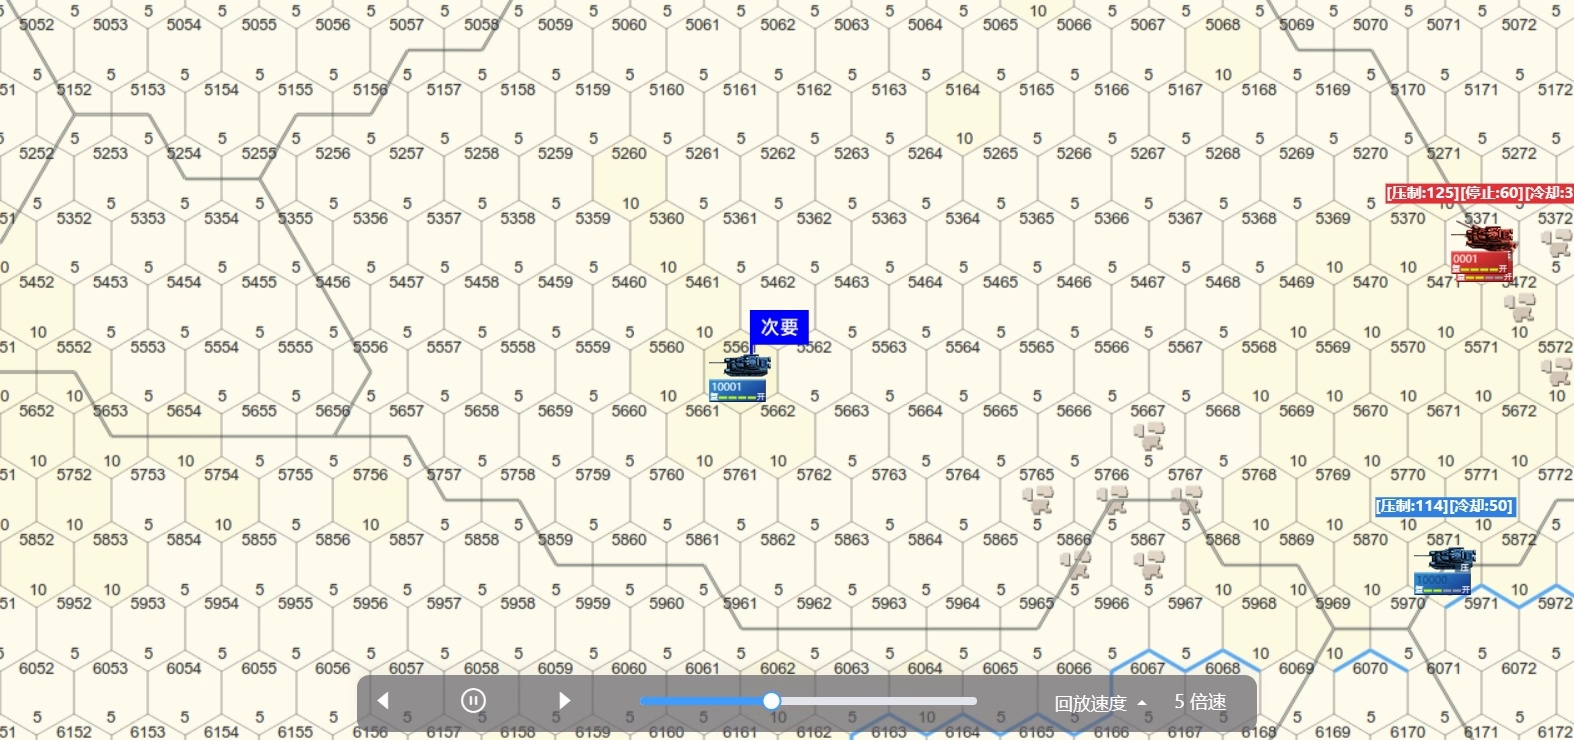blue_tank: (709, 355, 771, 404), (1417, 552, 1479, 599)
red_tank: (1462, 222, 1517, 282)
